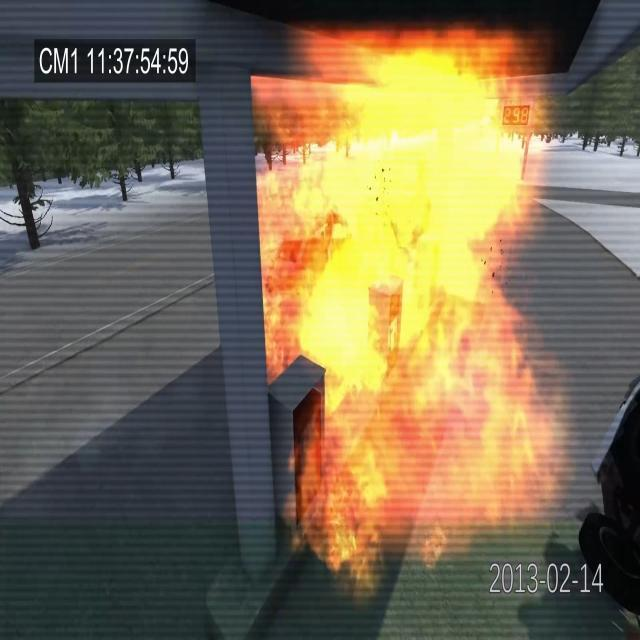high-cars-accident: (243, 103, 531, 433)
